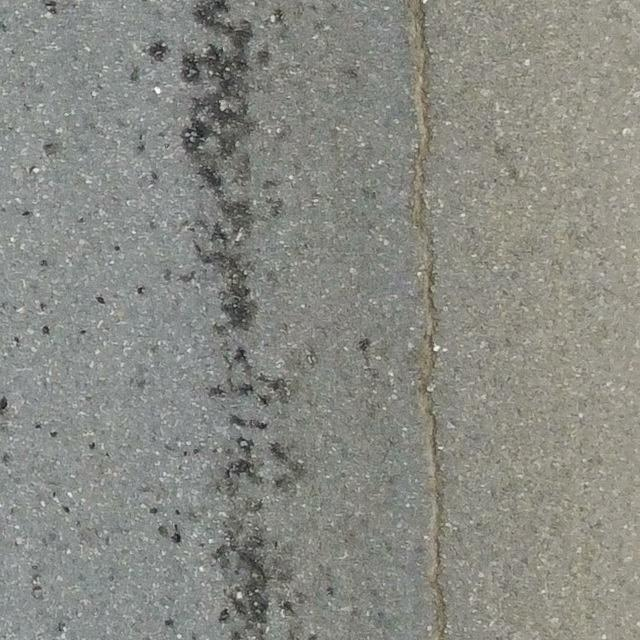LongitudinalCrack: (407, 1, 447, 640)
